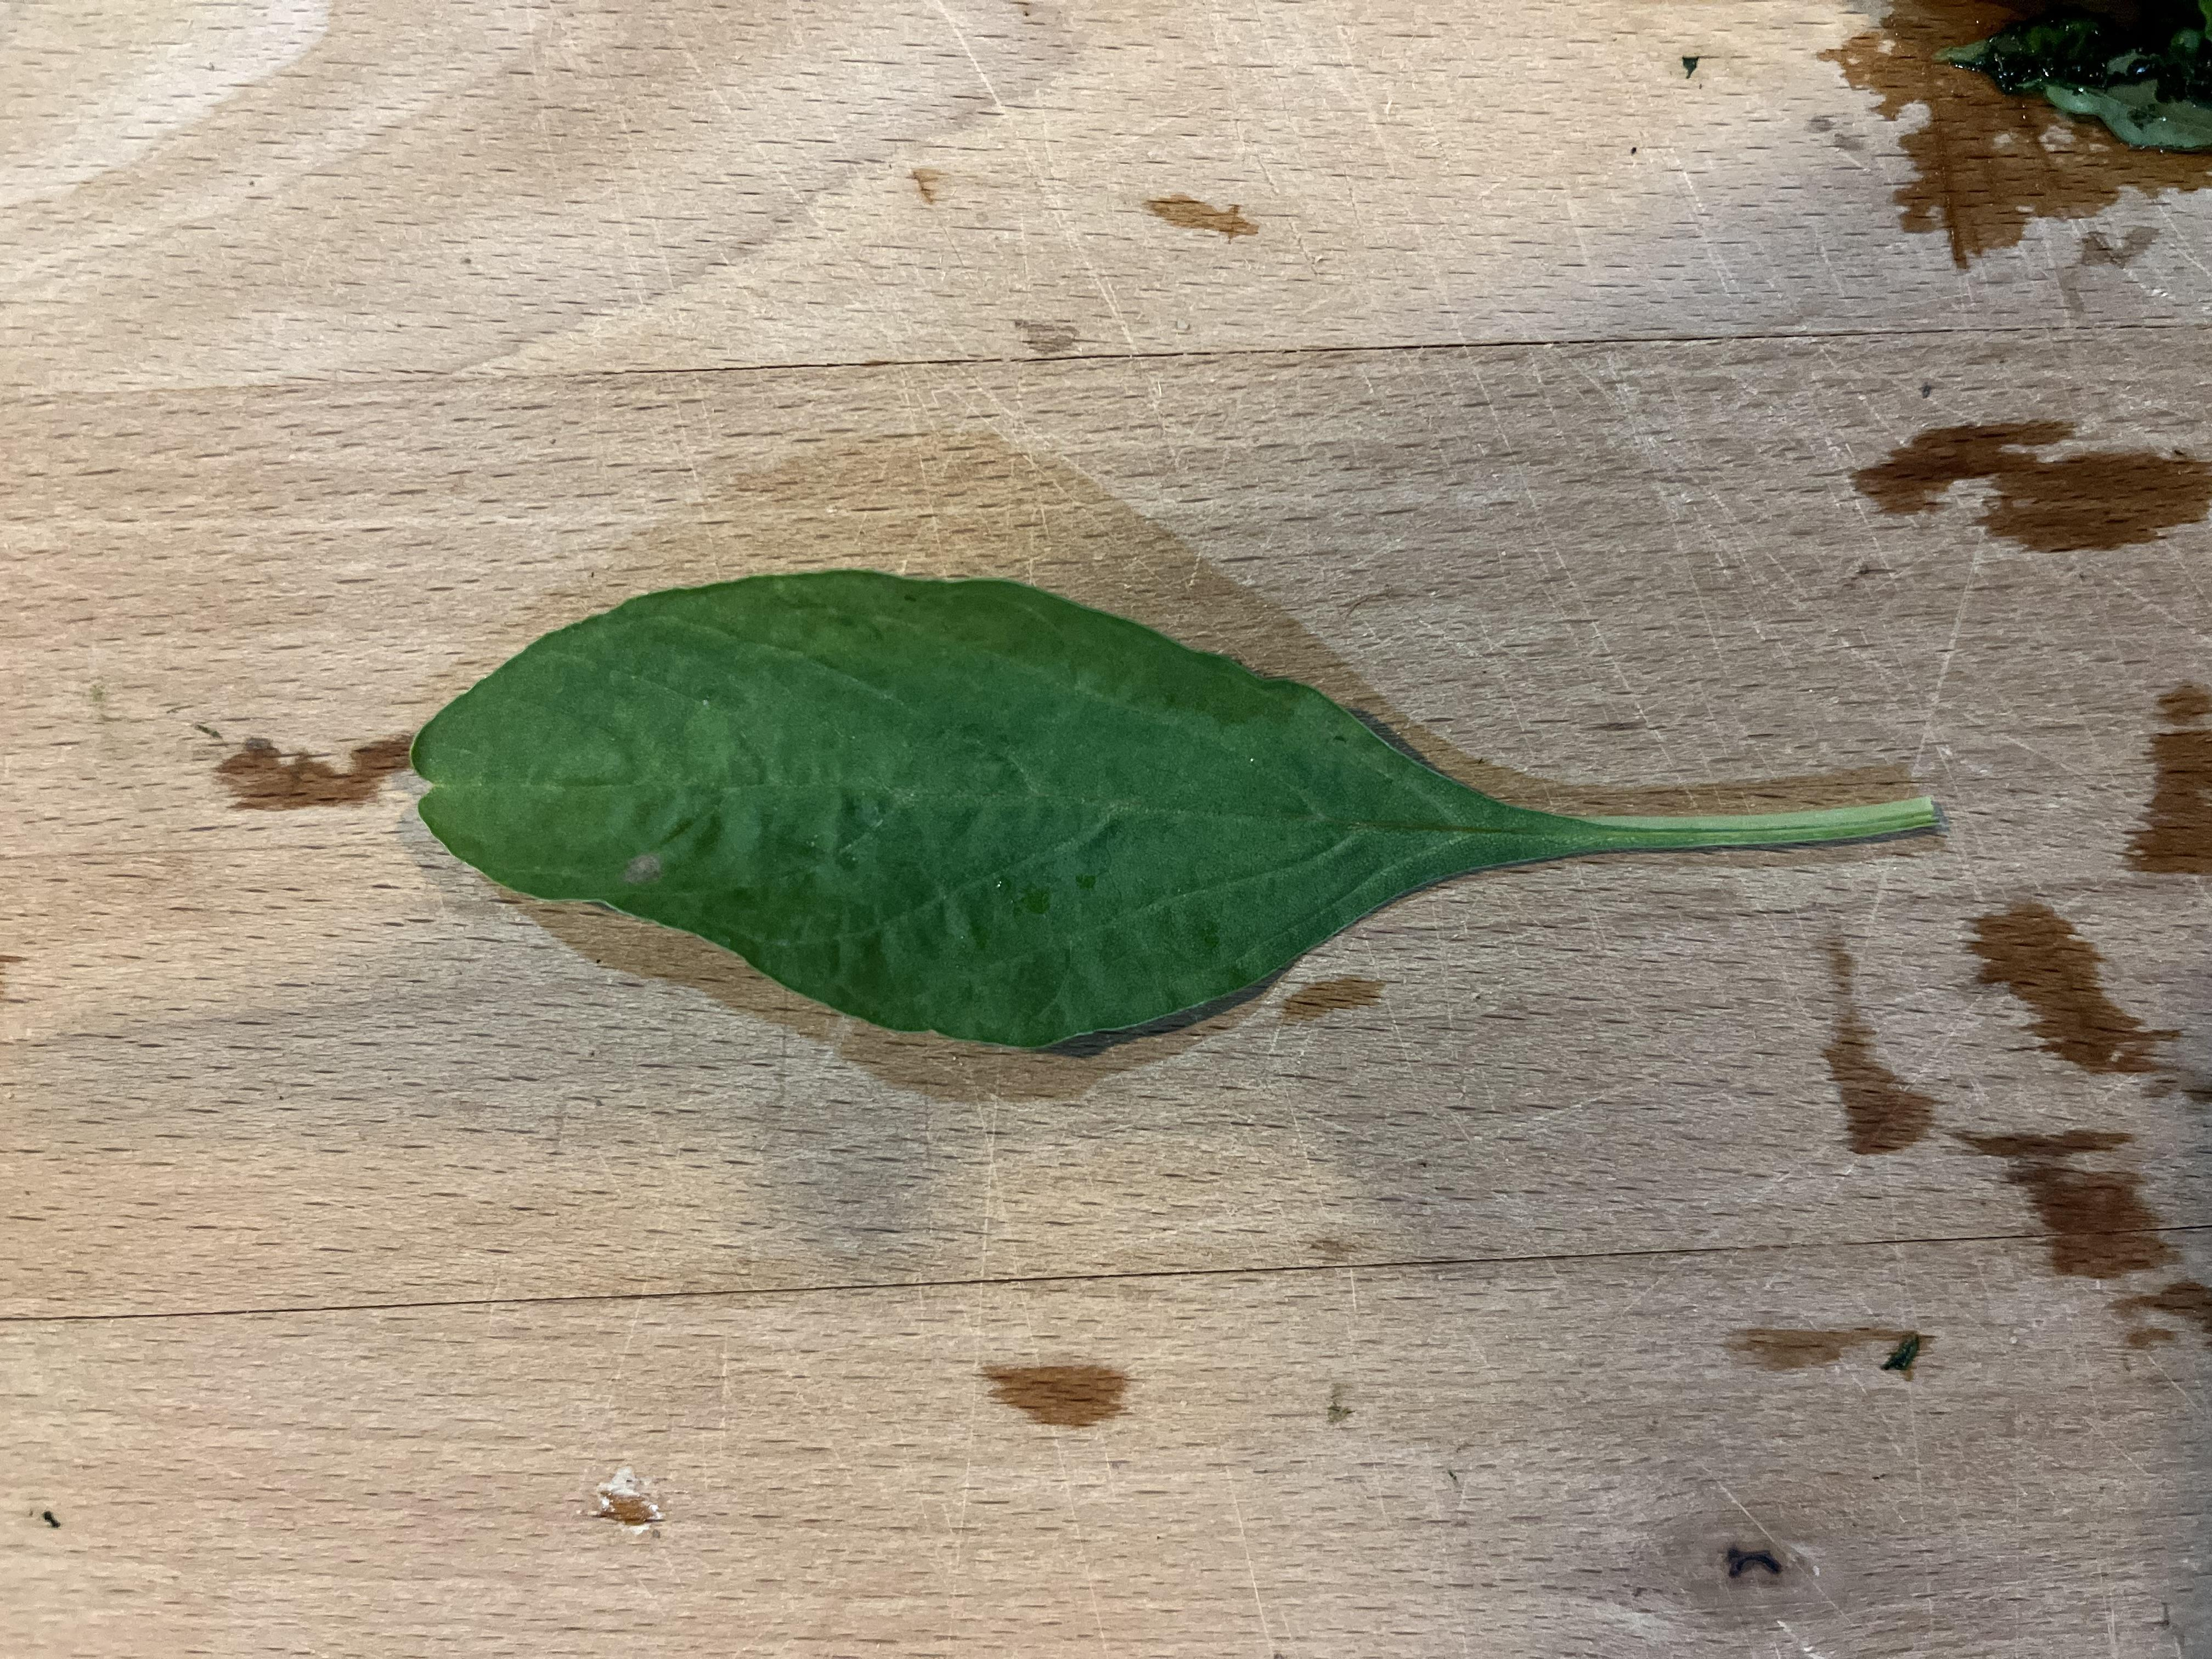Healthy-Pechay: (401, 434, 1980, 1157)
